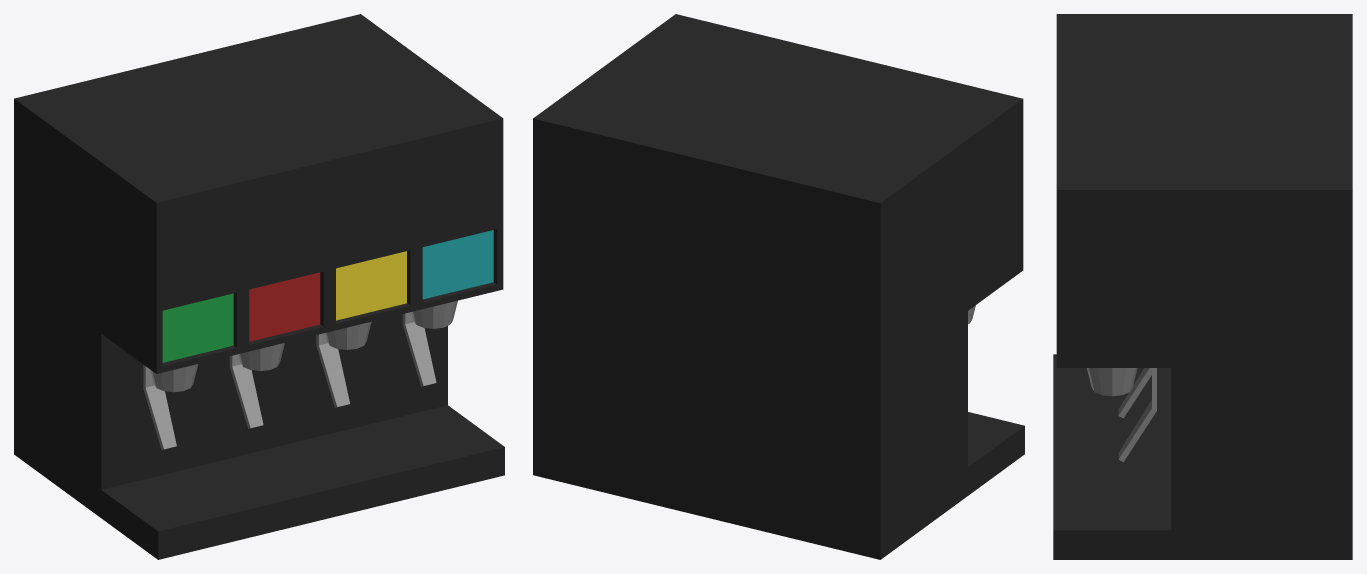
Rendered from SodaFountain_01.fbx.
The picture shows the model from 3 angles, left to right: view 1: azimuth 30°, elevation 25°; view 2: azimuth 150°, elevation 25°; view 3: azimuth 270°, elevation 25°; orthographic projection. The views are drawn at different scales.
Visible parts, largest first — view 1: SodaFountain_01, SodaFountain_Lights_01; view 2: SodaFountain_01; view 3: SodaFountain_01.
Part boxes in pixels (box(x1,y1,x2,y2)): SodaFountain_01: box(14, 14, 504, 559); SodaFountain_Lights_01: box(162, 230, 493, 362); SodaFountain_01: box(533, 14, 1024, 559); SodaFountain_01: box(1053, 14, 1352, 559).
Bounding box in the file's own units: 0.6262 × 0.6144 × 0.4508.
